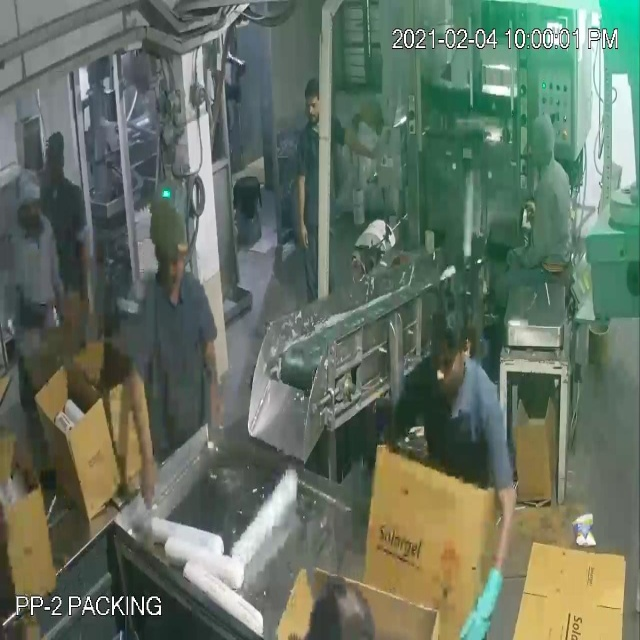Guantes: (446, 535, 515, 640)
Sin_guantes: (125, 337, 165, 518), (196, 315, 228, 431), (337, 121, 393, 171), (292, 158, 315, 262)
